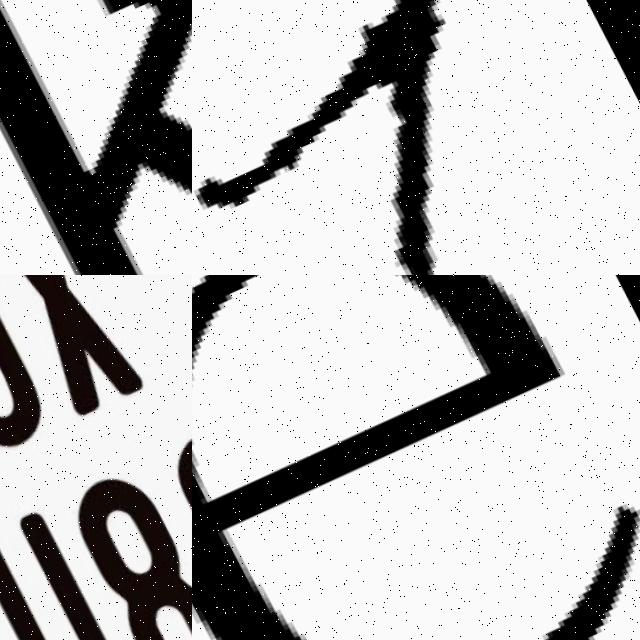0: (0, 275, 55, 461)
1: (192, 0, 640, 275)
8: (50, 460, 192, 640)
E: (192, 275, 559, 640)
G: (149, 415, 192, 640)
K: (0, 0, 192, 275)
U: (0, 503, 147, 640)
X: (0, 275, 147, 422)
